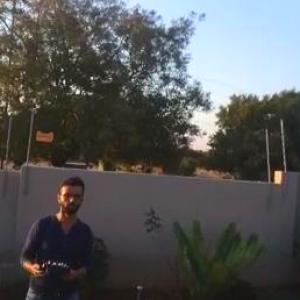follow: (14, 171, 99, 299)
